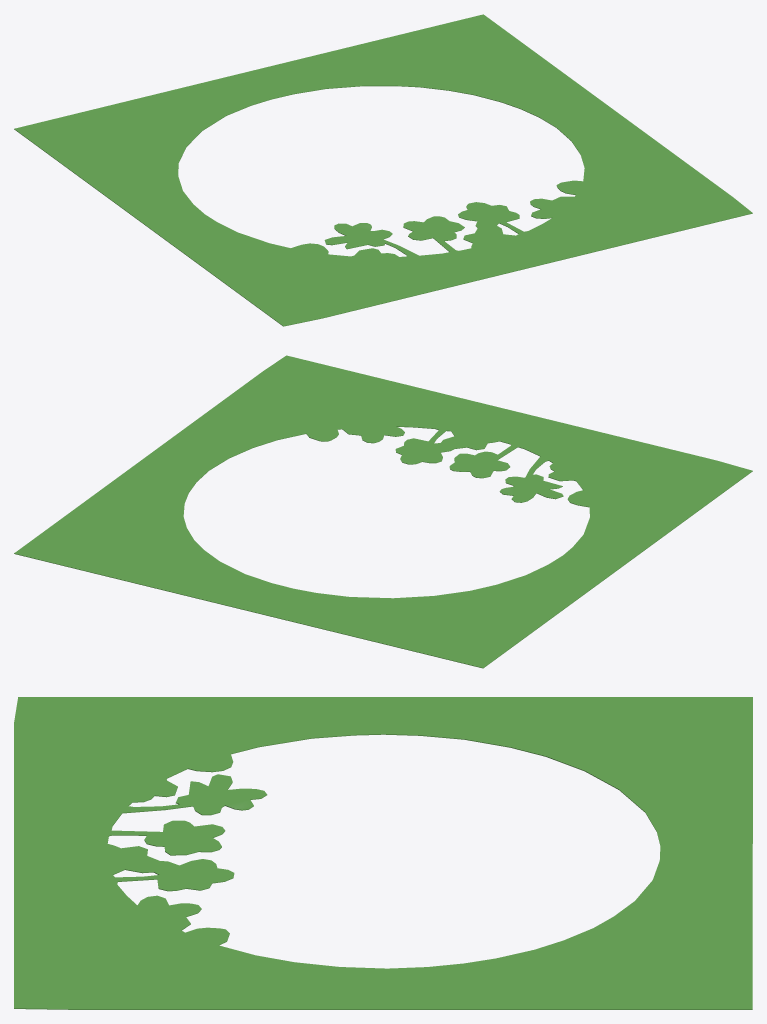
The model's file is Spring_B_1.fbx.
The picture shows the model from 3 angles, top to bottom: view 1: azimuth 30°, elevation 25°; view 2: azimuth 150°, elevation 25°; view 3: azimuth 270°, elevation 25°; orthographic projection. The views are drawn at different scales.
Visible parts, largest first — view 1: Spring_B1; view 2: Spring_B1; view 3: Spring_B1.
Boxes of the visible parts, left/top/right/bottom form: Spring_B1: left=14, top=14, right=752, bottom=326; Spring_B1: left=14, top=355, right=752, bottom=668; Spring_B1: left=14, top=697, right=752, bottom=1009.
Bounding box in the file's own units: 1.98 × 0.002 × 1.99.
